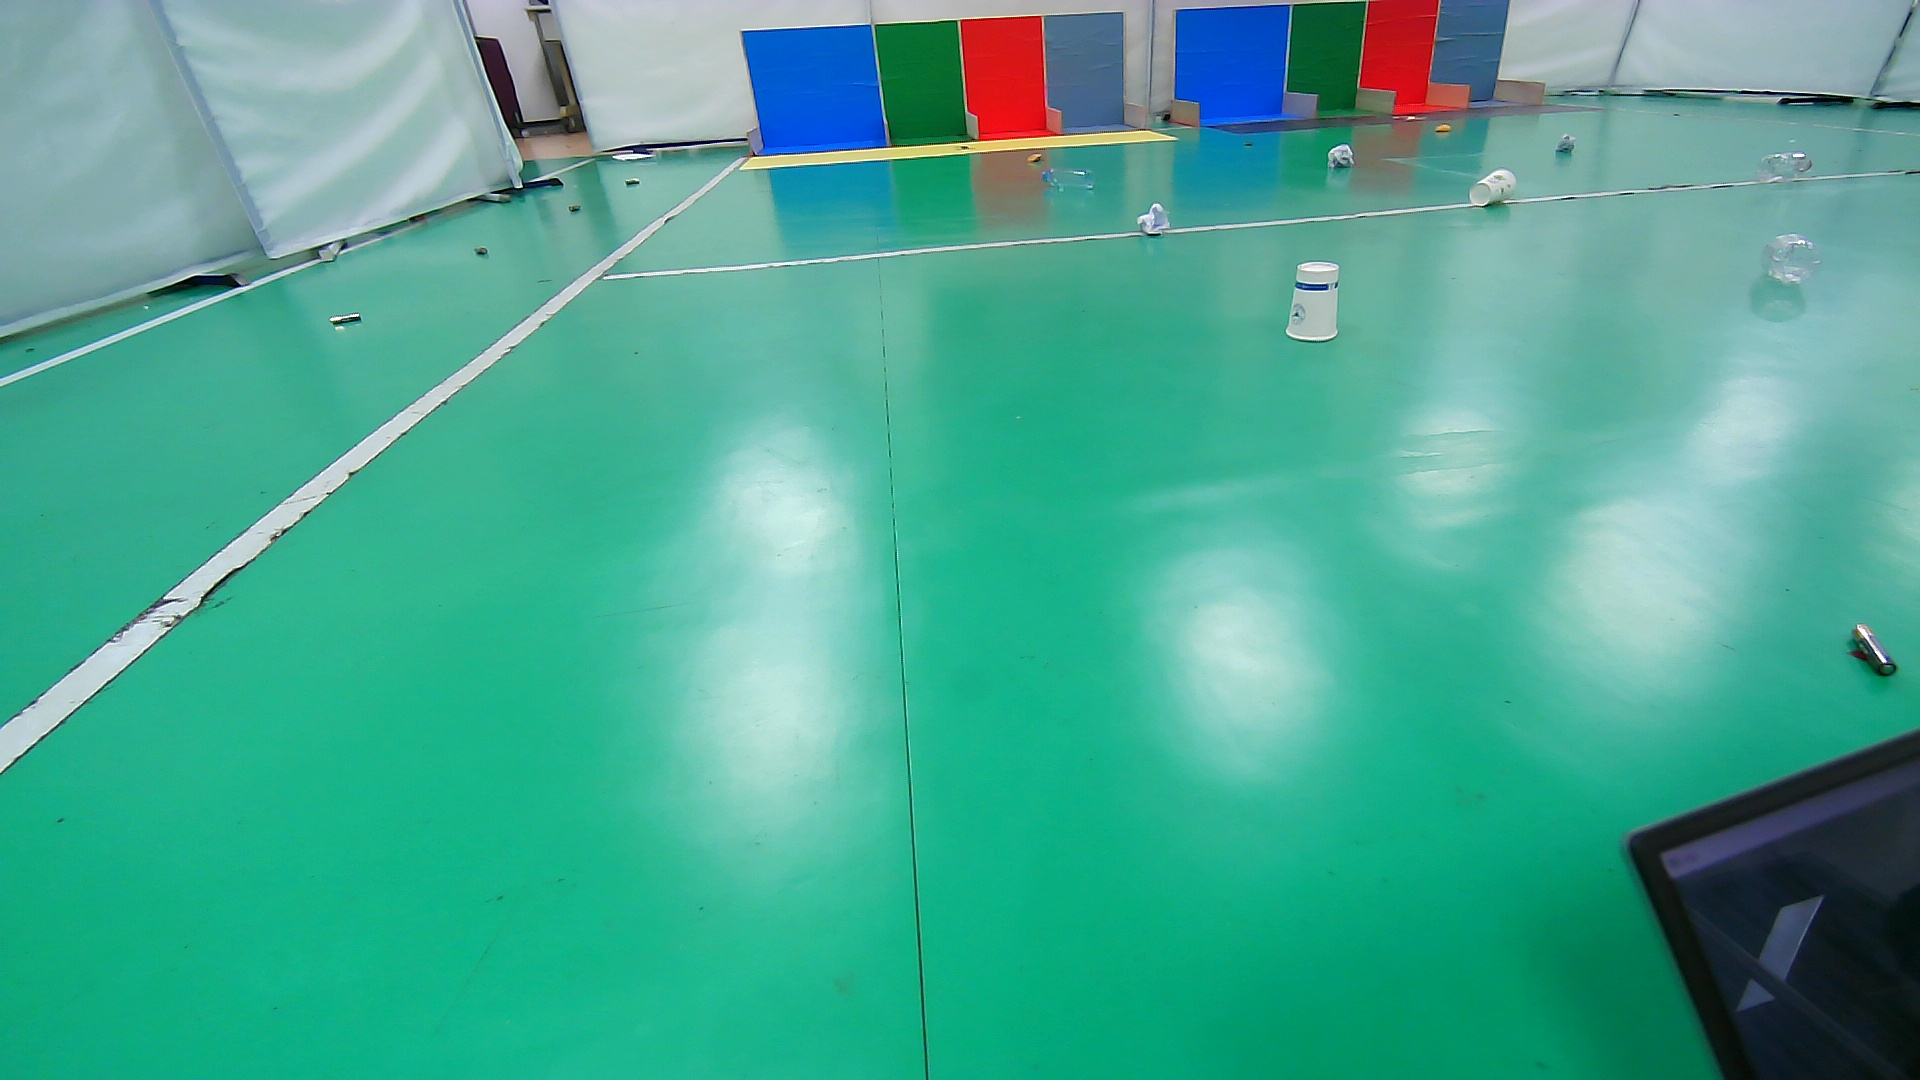battery: (1828, 587, 1916, 712), (310, 295, 386, 345), (458, 233, 505, 268), (553, 190, 597, 225), (613, 167, 651, 195), (1236, 135, 1263, 153)
bottle: (1756, 229, 1822, 289), (1753, 152, 1816, 191), (1038, 165, 1098, 193)
orangepeel: (1428, 117, 1458, 137), (1021, 148, 1048, 166)
papercup: (1284, 256, 1344, 342), (1468, 167, 1519, 207)
spitball: (1135, 200, 1172, 237), (1324, 142, 1357, 170), (1552, 131, 1578, 156)
